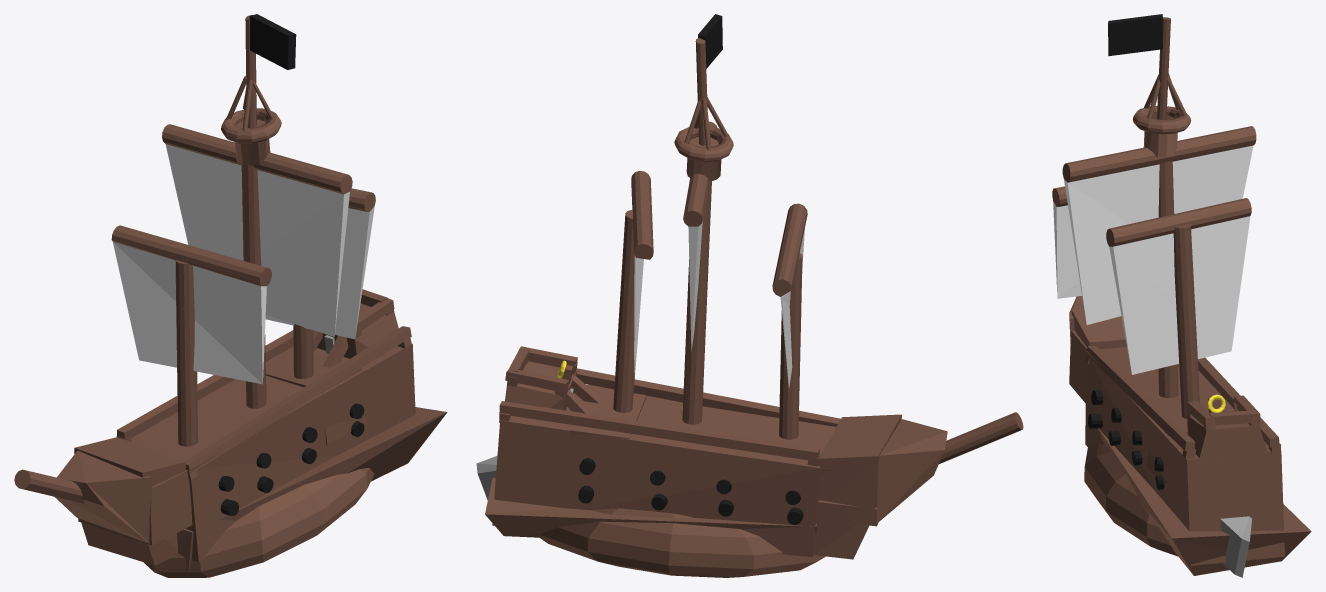
File: PirateShip.glb
3 views of the same model, side by side, from view 1: azimuth 30°, elevation 25°; view 2: azimuth 150°, elevation 25°; view 3: azimuth 270°, elevation 25° (orthographic). The views are drawn at different scales.
Parts seen in each view (by area): view 1: group970421097; view 2: group970421097; view 3: group970421097.
Boxes of the visible parts, x1,y1,x2,y2 form: group970421097: (14, 14, 447, 577); group970421097: (476, 14, 1023, 577); group970421097: (1052, 14, 1311, 577).
Bounding box in the file's own units: 1.09 × 1.16 × 0.5318.
